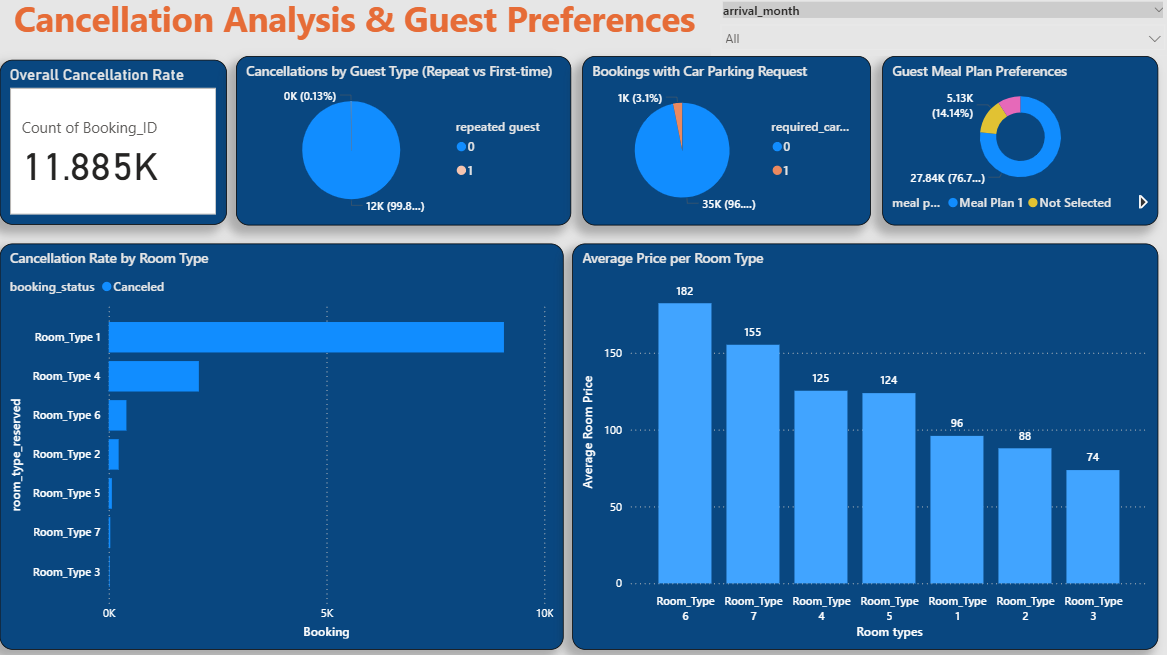

The dashboard page shown, as its layout file describes it:
{"tool":"powerbi","page":{"name":"Cancellation & Guest","canvas":[1280,720],"ordinal":2},"visuals":[{"type":"textbox","box":[10,0,852.5,87.5],"z":0},{"type":"cardVisual","title":"Overall Cancellation Rate","fields":{"Data":["CountNonNull(Hotel Reservation Analysis.Booking_ID)"]},"box":[10,74.8,245.6,178.3],"z":1000},{"type":"pieChart","title":"Cancellations by Guest Type (Repeat vs First-time)","fields":{"Y":["CountNonNull(Hotel Reservation Analysis.Booking_ID)"],"Category":["Hotel Reservation Analysis.repeated_guest"]},"box":[265.5,69.8,362.8,183.2],"z":2000},{"type":"clusteredBarChart","title":"Cancellation Rate by Room Type","fields":{"Category":["Hotel Reservation Analysis.room_type_reserved"],"Series":["Hotel Reservation Analysis.booking_status"],"Y":["CountNonNull(Hotel Reservation Analysis.Booking_ID)"]},"box":[10,273,609.6,438.8],"z":3000},{"type":"donutChart","title":"Guest Meal Plan Preferences","fields":{"Y":["CountNonNull(Hotel Reservation Analysis.Booking_ID)"],"Category":["Hotel Reservation Analysis.type_of_meal_plan"]},"box":[963.6,69.7,298.4,183.4],"z":4000},{"type":"pieChart","title":"Bookings with Car Parking Request","fields":{"Category":["Hotel Reservation Analysis.required_car_parking_space"],"Y":["CountNonNull(Hotel Reservation Analysis.Booking_ID)"]},"box":[639.5,69.8,311.6,183.2],"z":5000},{"type":"clusteredColumnChart","title":"Average Price per Room Type","fields":{"Category":["Hotel Reservation Analysis.room_type_reserved"],"Y":["Hotel Reservation Analysis.Average Room Price"]},"box":[628.3,273,633.3,438.8],"z":6000},{"type":"slicer","title":"Filter by Booking Months","fields":{"Values":["Hotel Reservation Analysis.arrival_month"]},"box":[777.9,6.2,502.4,63.6],"z":7000}]}

Visuals, with their boxes in screenshot pixels (x1, y1, x2, y2), scaled from the page's 1280x720 canvas onto the 1167x655 screenshot:
textbox: <bbox>9, 0, 786, 80</bbox>
"Overall Cancellation Rate" cardVisual: <bbox>9, 68, 233, 230</bbox>
"Cancellations by Guest Type (Repeat vs First-time)" pieChart: <bbox>242, 63, 573, 230</bbox>
"Cancellation Rate by Room Type" clusteredBarChart: <bbox>9, 248, 565, 648</bbox>
"Guest Meal Plan Preferences" donutChart: <bbox>879, 63, 1151, 230</bbox>
"Bookings with Car Parking Request" pieChart: <bbox>583, 63, 867, 230</bbox>
"Average Price per Room Type" clusteredColumnChart: <bbox>573, 248, 1150, 648</bbox>
"Filter by Booking Months" slicer: <bbox>709, 6, 1166, 63</bbox>
